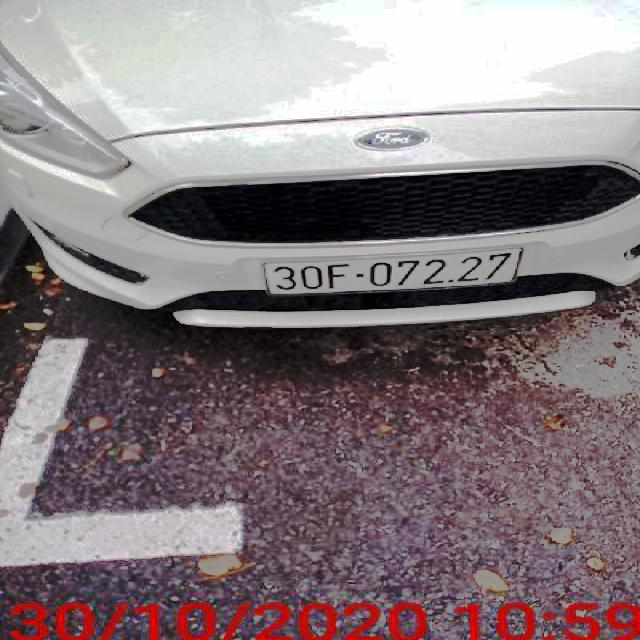license_plate: (267, 245, 523, 295)
